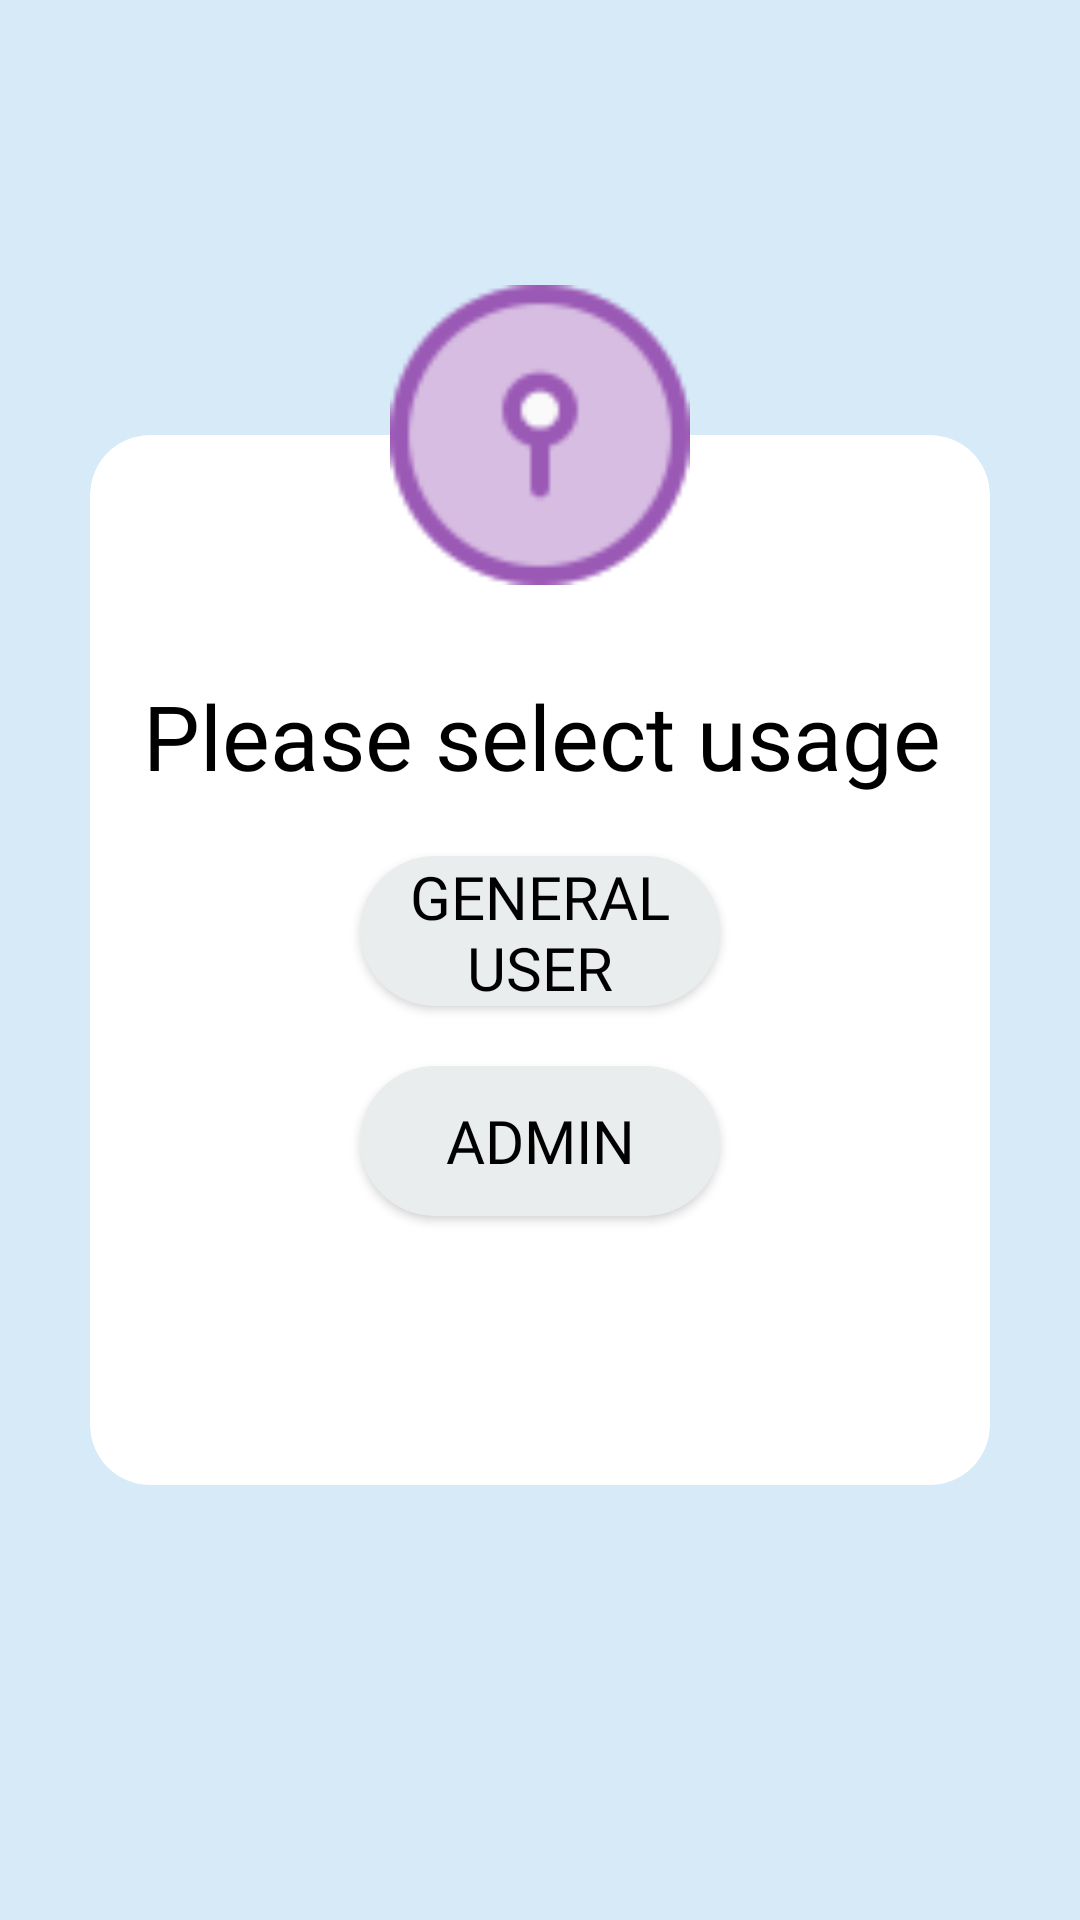

Icon click points for this 1080*1920 phone screenshot, format (x=x, y=y):
keyhole: (x=540, y=435)
